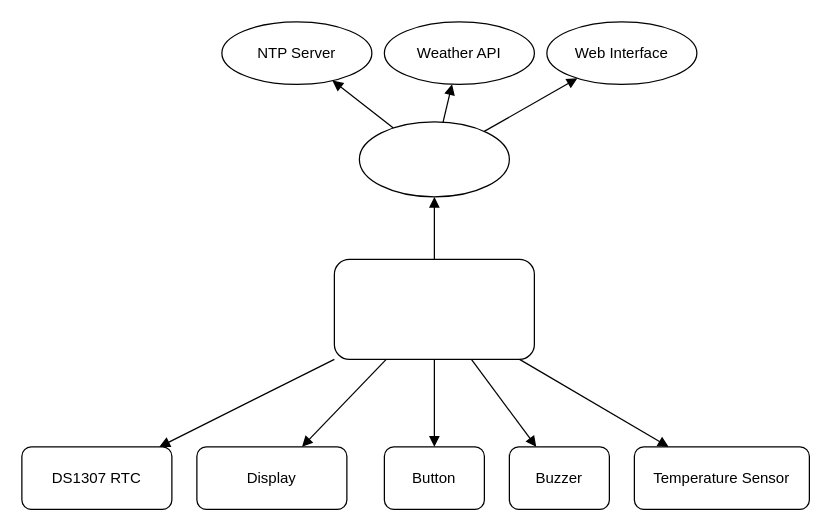
The diagram is 831 pixels wide and 531 high, and some of its shapes have lost their labels. Here are the shapes that lost their labels. From the top down, the box of each, then its label:
(358, 121, 509, 197): Internet
(333, 258, 534, 359): ESP32
